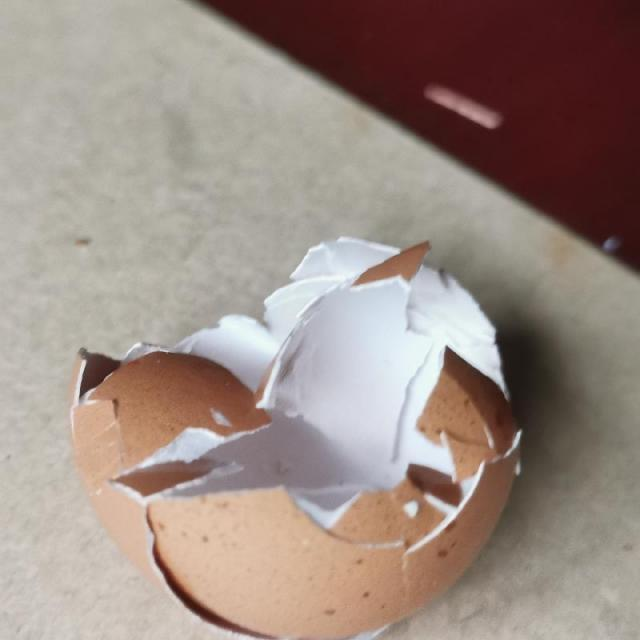egg shell: (68, 235, 525, 639)
